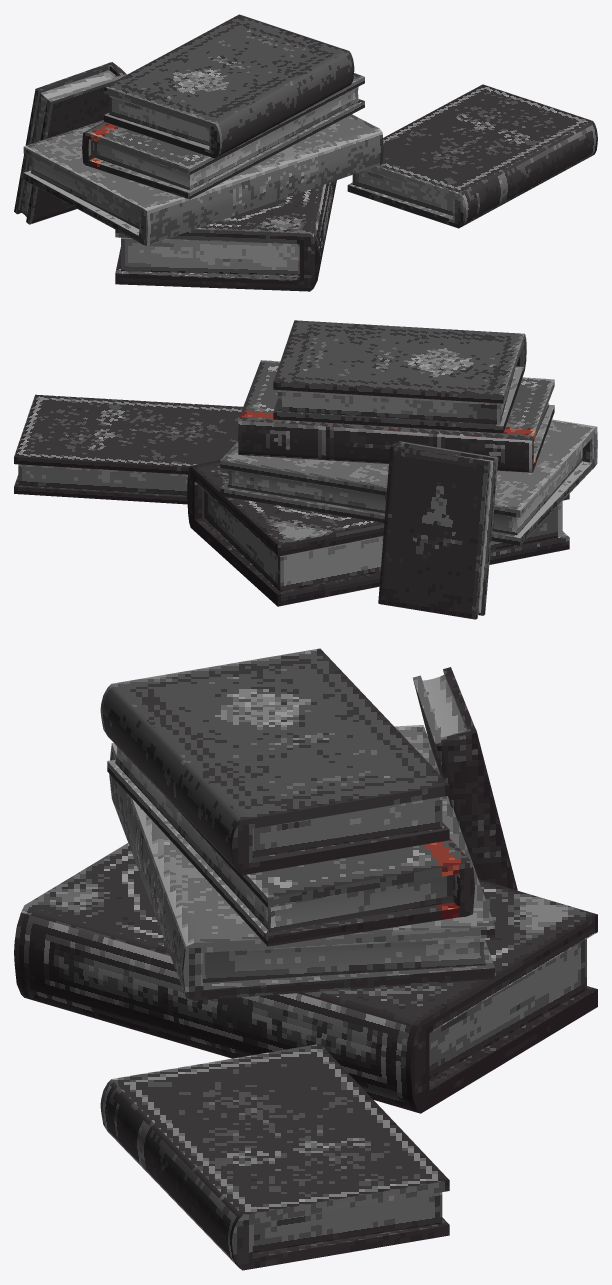
Rendered from books_old.glb.
The picture shows the model from 3 angles, top to bottom: view 1: azimuth 30°, elevation 25°; view 2: azimuth 150°, elevation 25°; view 3: azimuth 270°, elevation 25°; orthographic projection. The views are drawn at different scales.
Visible parts, largest first — view 1: mesh; view 2: mesh; view 3: mesh.
Part boxes in pixels (x1,y1,x2,y2): mesh: [14, 14, 597, 291]; mesh: [14, 320, 597, 619]; mesh: [14, 648, 597, 1270].
Size of the model in its own units: 0.3923 by 0.12 by 0.2423.
Materials: 1 (1 with a texture image).
